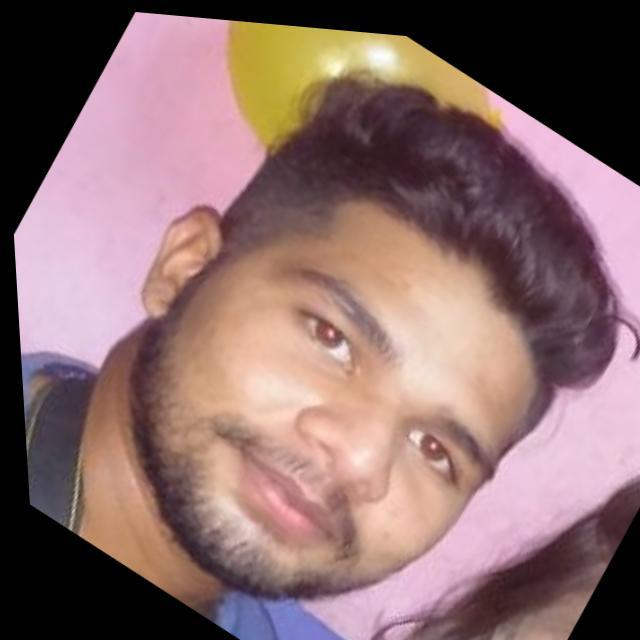Nonhelmet: (87, 64, 636, 621)
